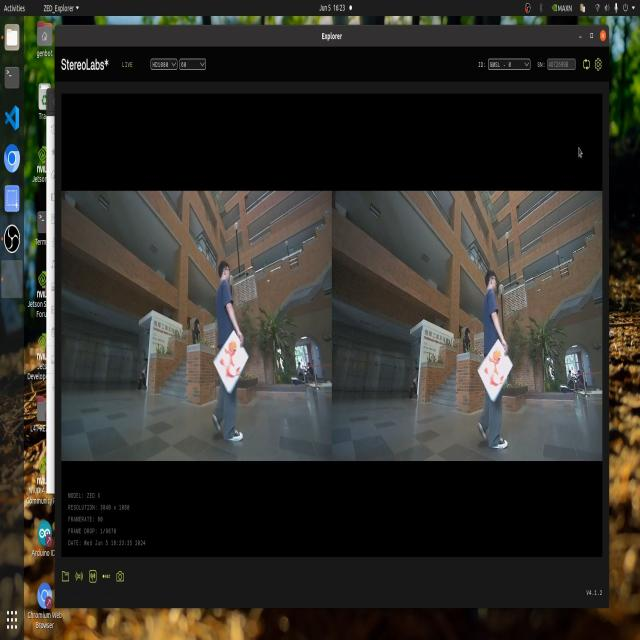red: (488, 343, 508, 397), (209, 350, 239, 377)
